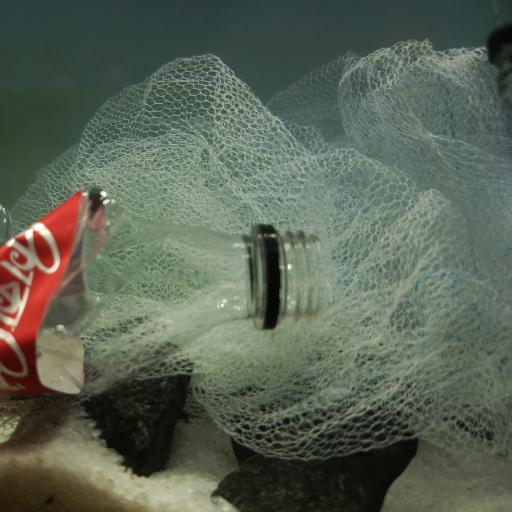net: (3, 44, 512, 470)
plastic_bottle: (4, 185, 320, 390)
